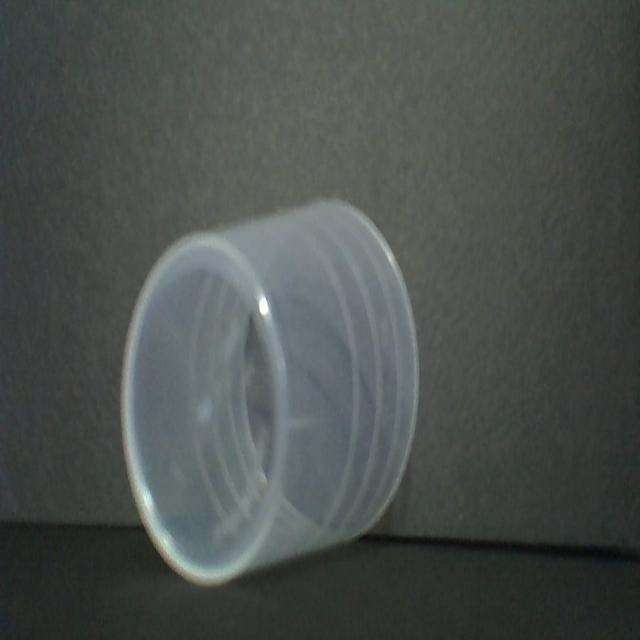cup: (117, 198, 424, 587)
